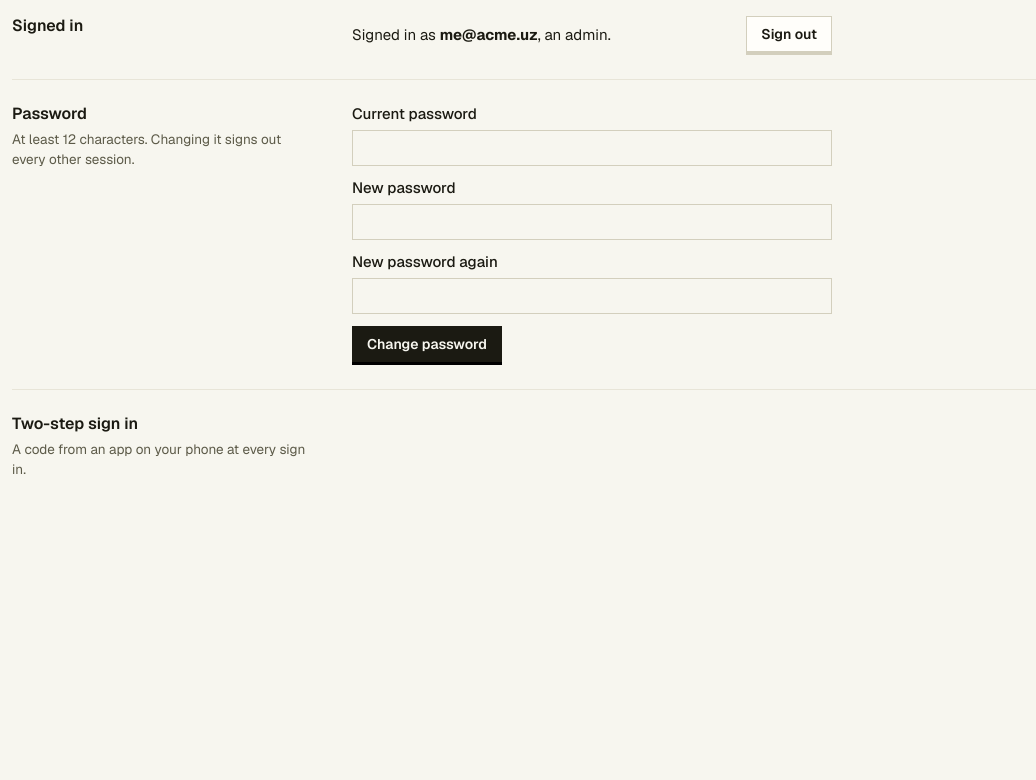
Test: Account › refuses a mismatch locally and signs out
The image size is (1036, 780).
Later steps or results of the test are not shown.
Check: the text "me@acme.uz" is shown, box [440,25,538,44]
Type "correct horse battery" into the password field labelled "Current password".
click(592, 148); type("correct horse battery")  # box [352,130,832,166]
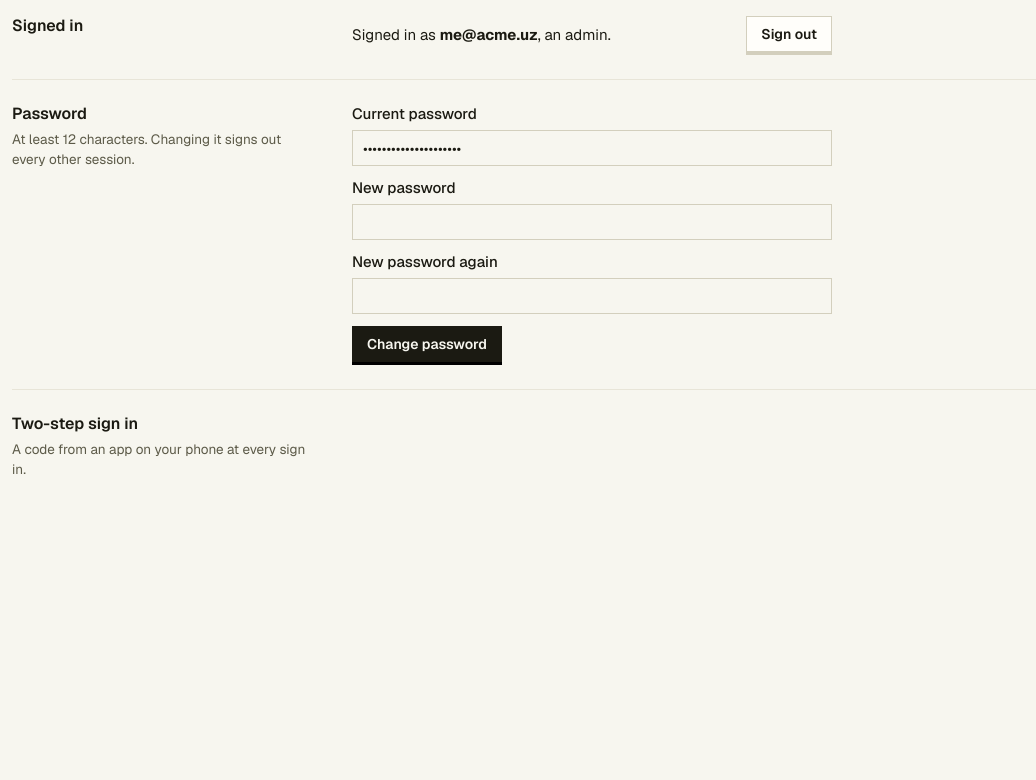
Type "another long password" into the password field labelled "New password".
click(592, 222); type("another long password")  # box [352,204,832,240]
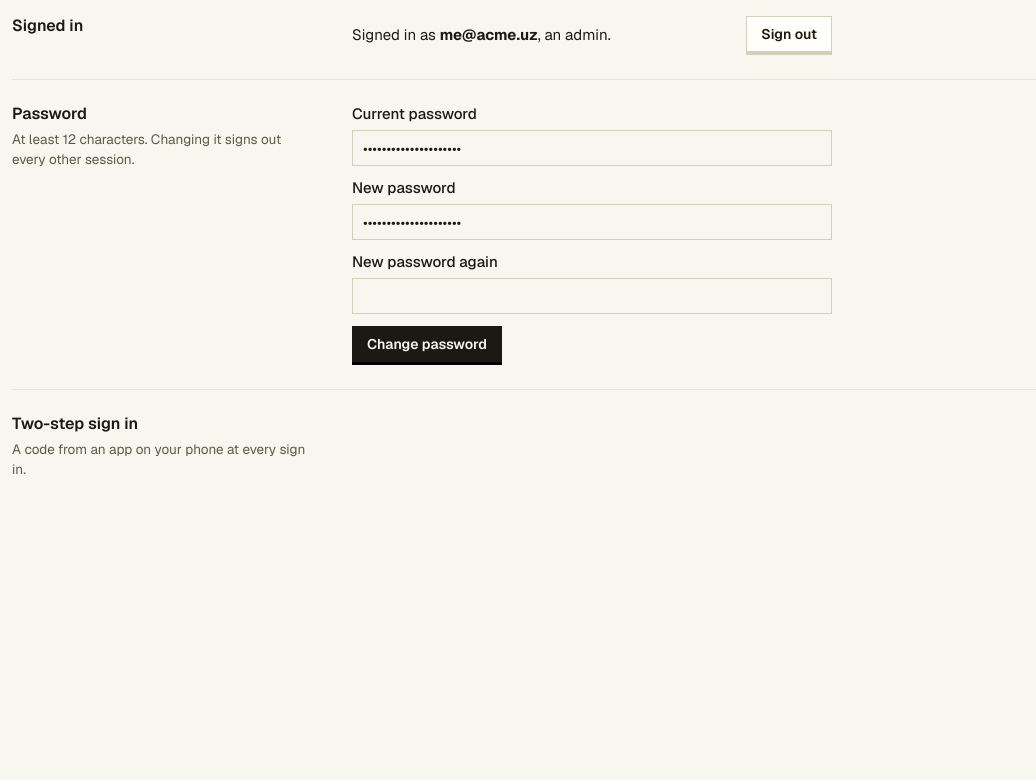
Type "another long passwor" into the password field labelled "New password again".
click(592, 296); type("another long passwor")  # box [352,278,832,314]
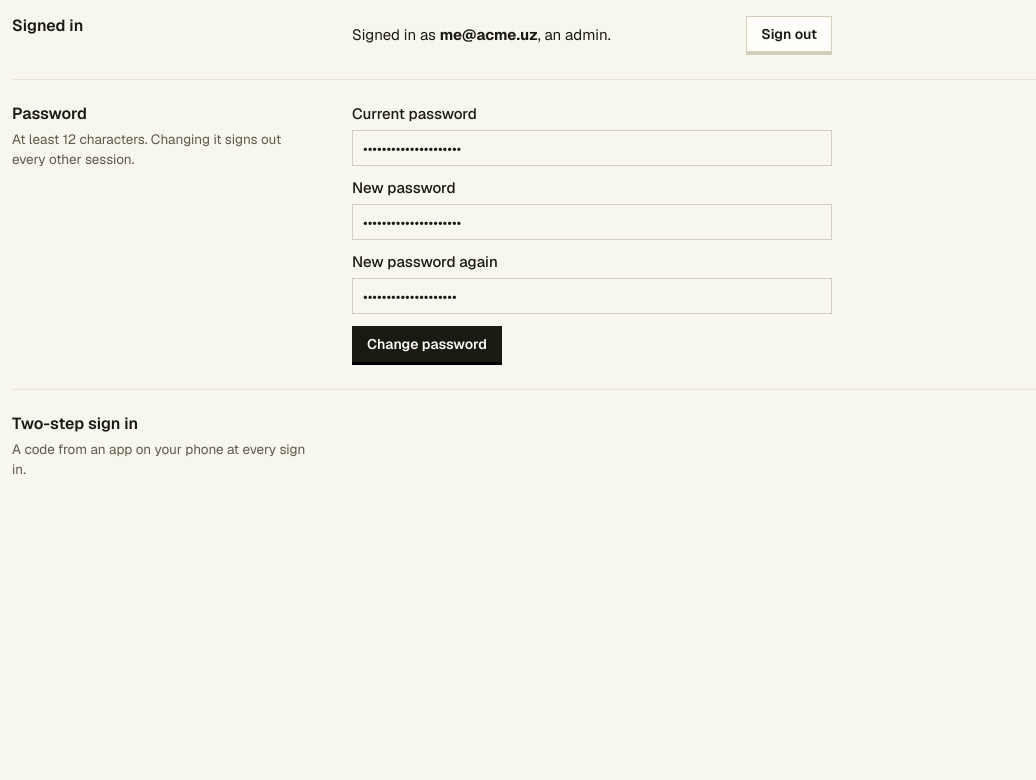
Click the button "Change password".
click(427, 344)  # box [352,326,502,362]
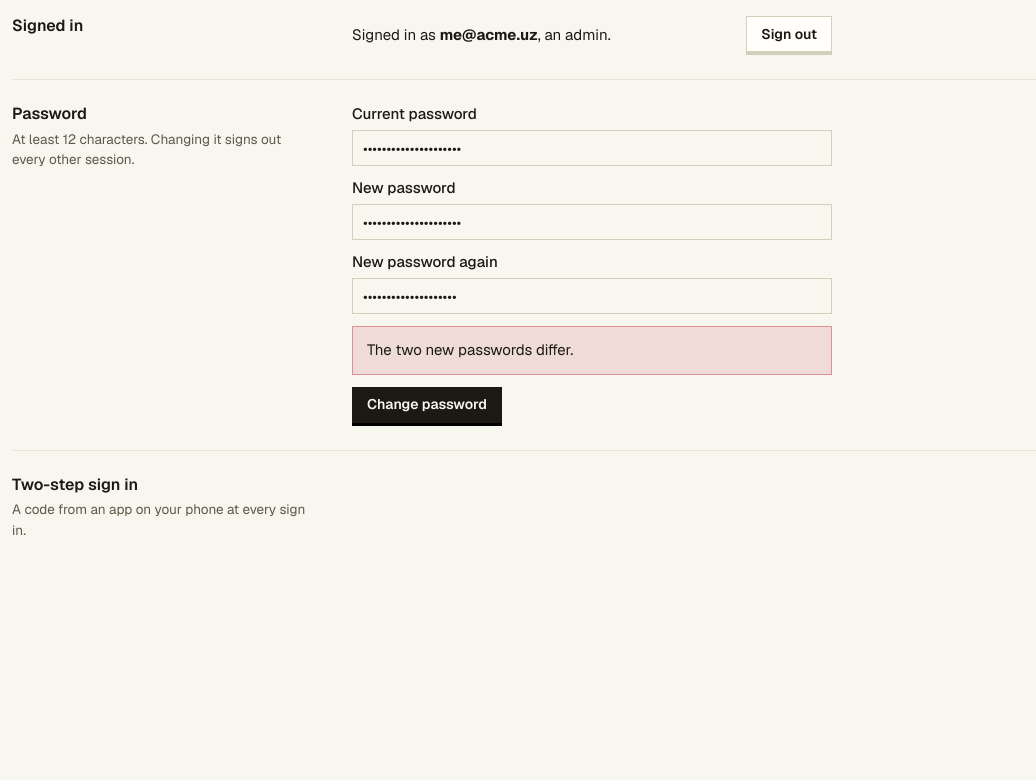
Check: the text "The two new passwords differ." is shown, box [367,340,573,359]
